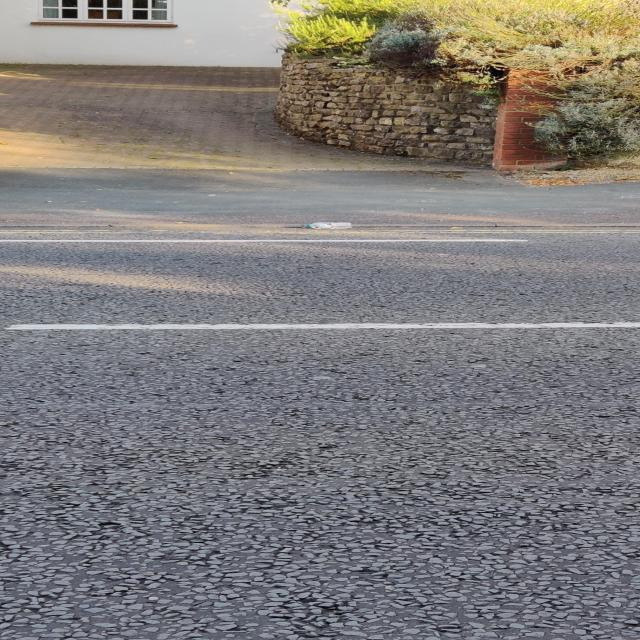litter: (301, 221, 358, 231)
